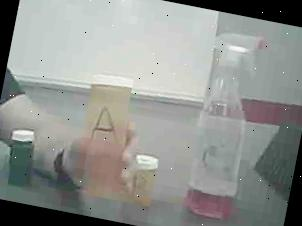Bottle A: (66, 67, 155, 212)
Bottle B: (126, 154, 165, 215)
Bottle C: (0, 120, 55, 198)
hazard: (171, 24, 280, 226)
